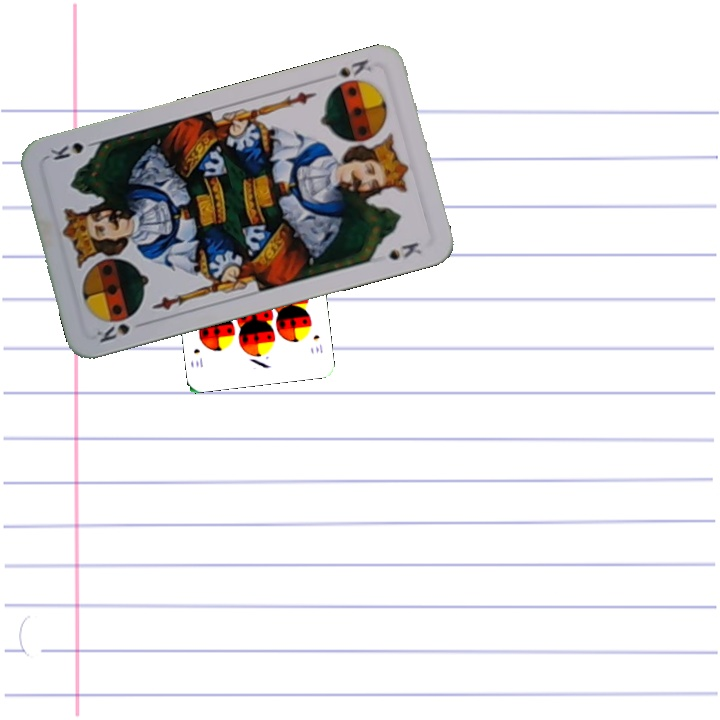S10: (309, 331, 325, 356)
SK: (91, 318, 149, 346), (334, 55, 374, 80)
